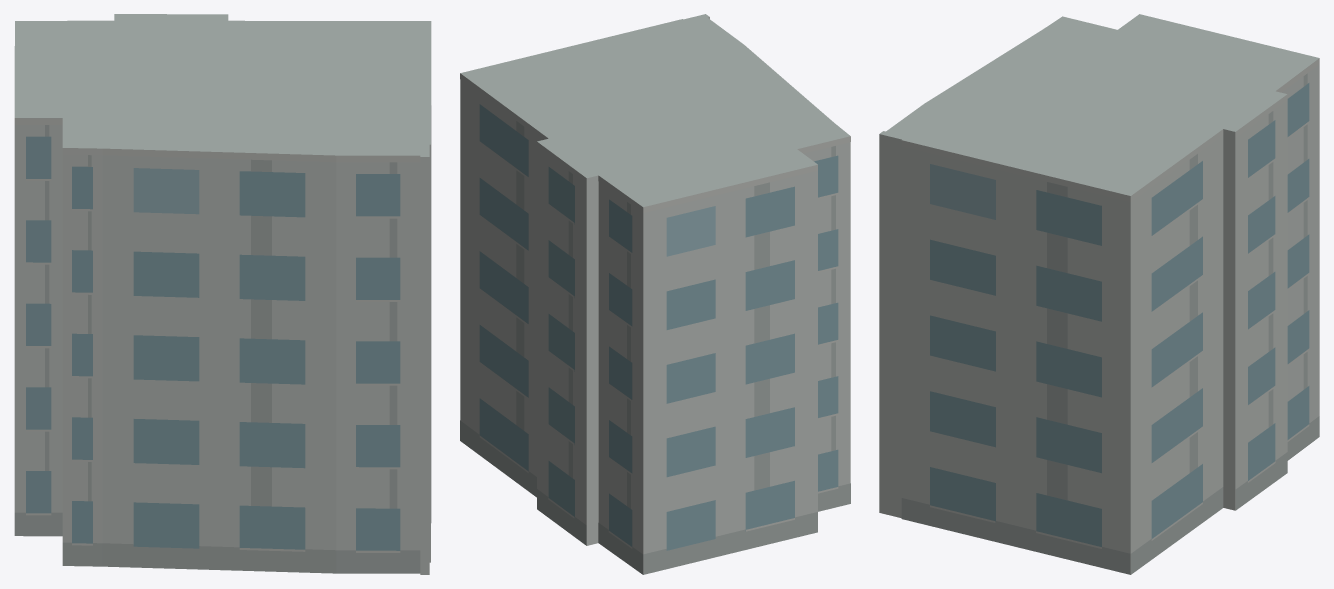
The model's file is survey-upis-32876806.glb.
The picture shows the model from 3 angles, left to right: view 1: azimuth 30°, elevation 25°; view 2: azimuth 150°, elevation 25°; view 3: azimuth 270°, elevation 25°; orthographic projection. The views are drawn at different scales.
Visible parts, largest first — view 1: survey-upis-32876806.tmp; view 2: survey-upis-32876806.tmp; view 3: survey-upis-32876806.tmp.
Boxes of the visible parts, x1=… form: survey-upis-32876806.tmp: x1=14, y1=14, x2=431, y2=574; survey-upis-32876806.tmp: x1=460, y1=14, x2=850, y2=574; survey-upis-32876806.tmp: x1=879, y1=14, x2=1319, y2=574.
Size of the model in its own units: 15.42 by 14.95 by 15.75.
